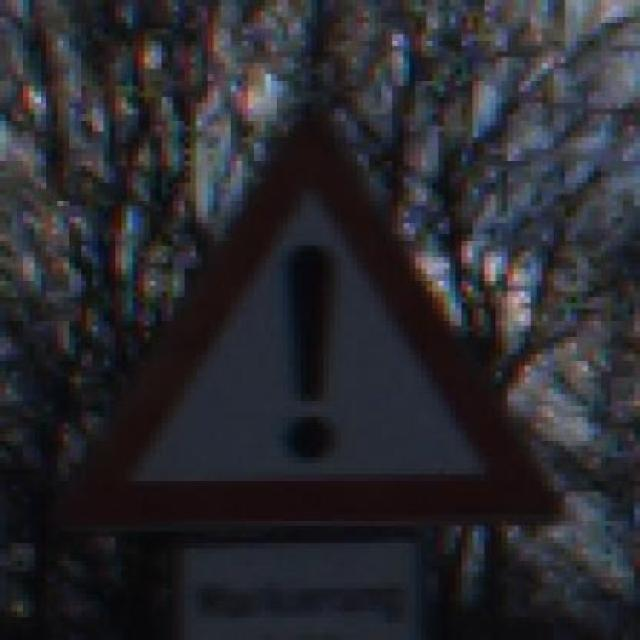Attention Please-: (44, 93, 568, 556)
